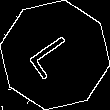L_NE: (25, 28, 85, 82)
